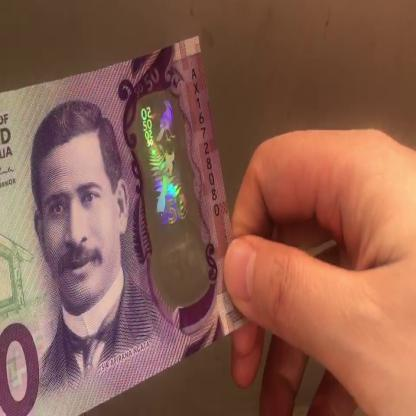50F: (139, 96, 199, 292)
